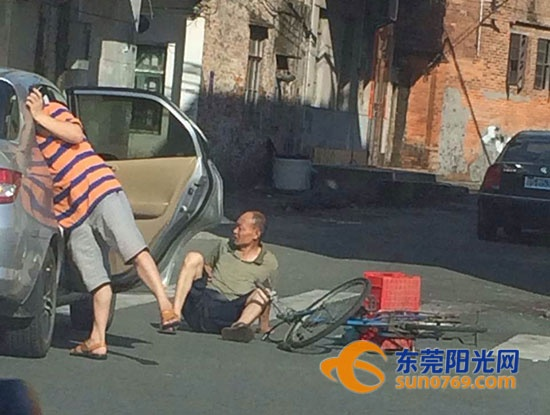falling: (157, 201, 285, 345)
